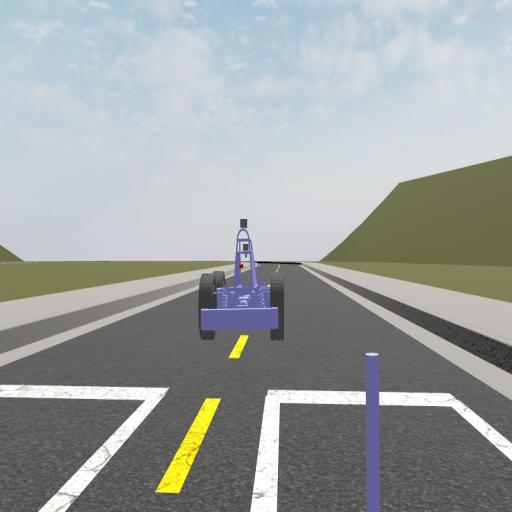ERP-42: (199, 217, 285, 340)
